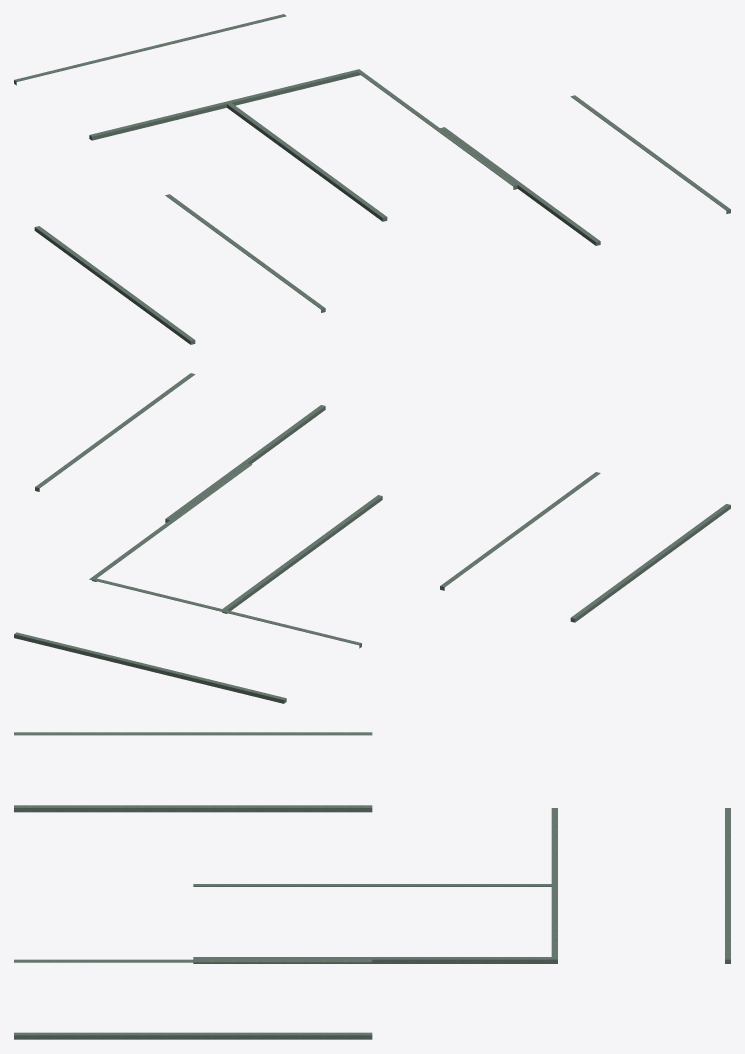
The model's file is kd_stage_135c43_4_36.glb.
The picture shows the model from 3 angles, top to bottom: view 1: azimuth 30°, elevation 25°; view 2: azimuth 150°, elevation 25°; view 3: azimuth 270°, elevation 25°; orthographic projection. The views are drawn at different scales.
Parts seen in each view (by area): view 1: kd_stage_135c43_4_36; view 2: kd_stage_135c43_4_36; view 3: kd_stage_135c43_4_36.
Part boxes in pixels (x1,y1,x2,y2): kd_stage_135c43_4_36: [14, 14, 730, 344]; kd_stage_135c43_4_36: [14, 373, 730, 703]; kd_stage_135c43_4_36: [14, 732, 730, 1039].
Size of the model in its own units: 3.3 by 0.022 by 3.3.
Materials: 1 (1 with a texture image).
